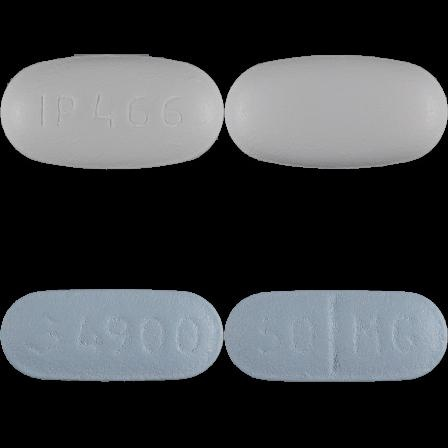75921-466: (0, 0, 224, 224)
